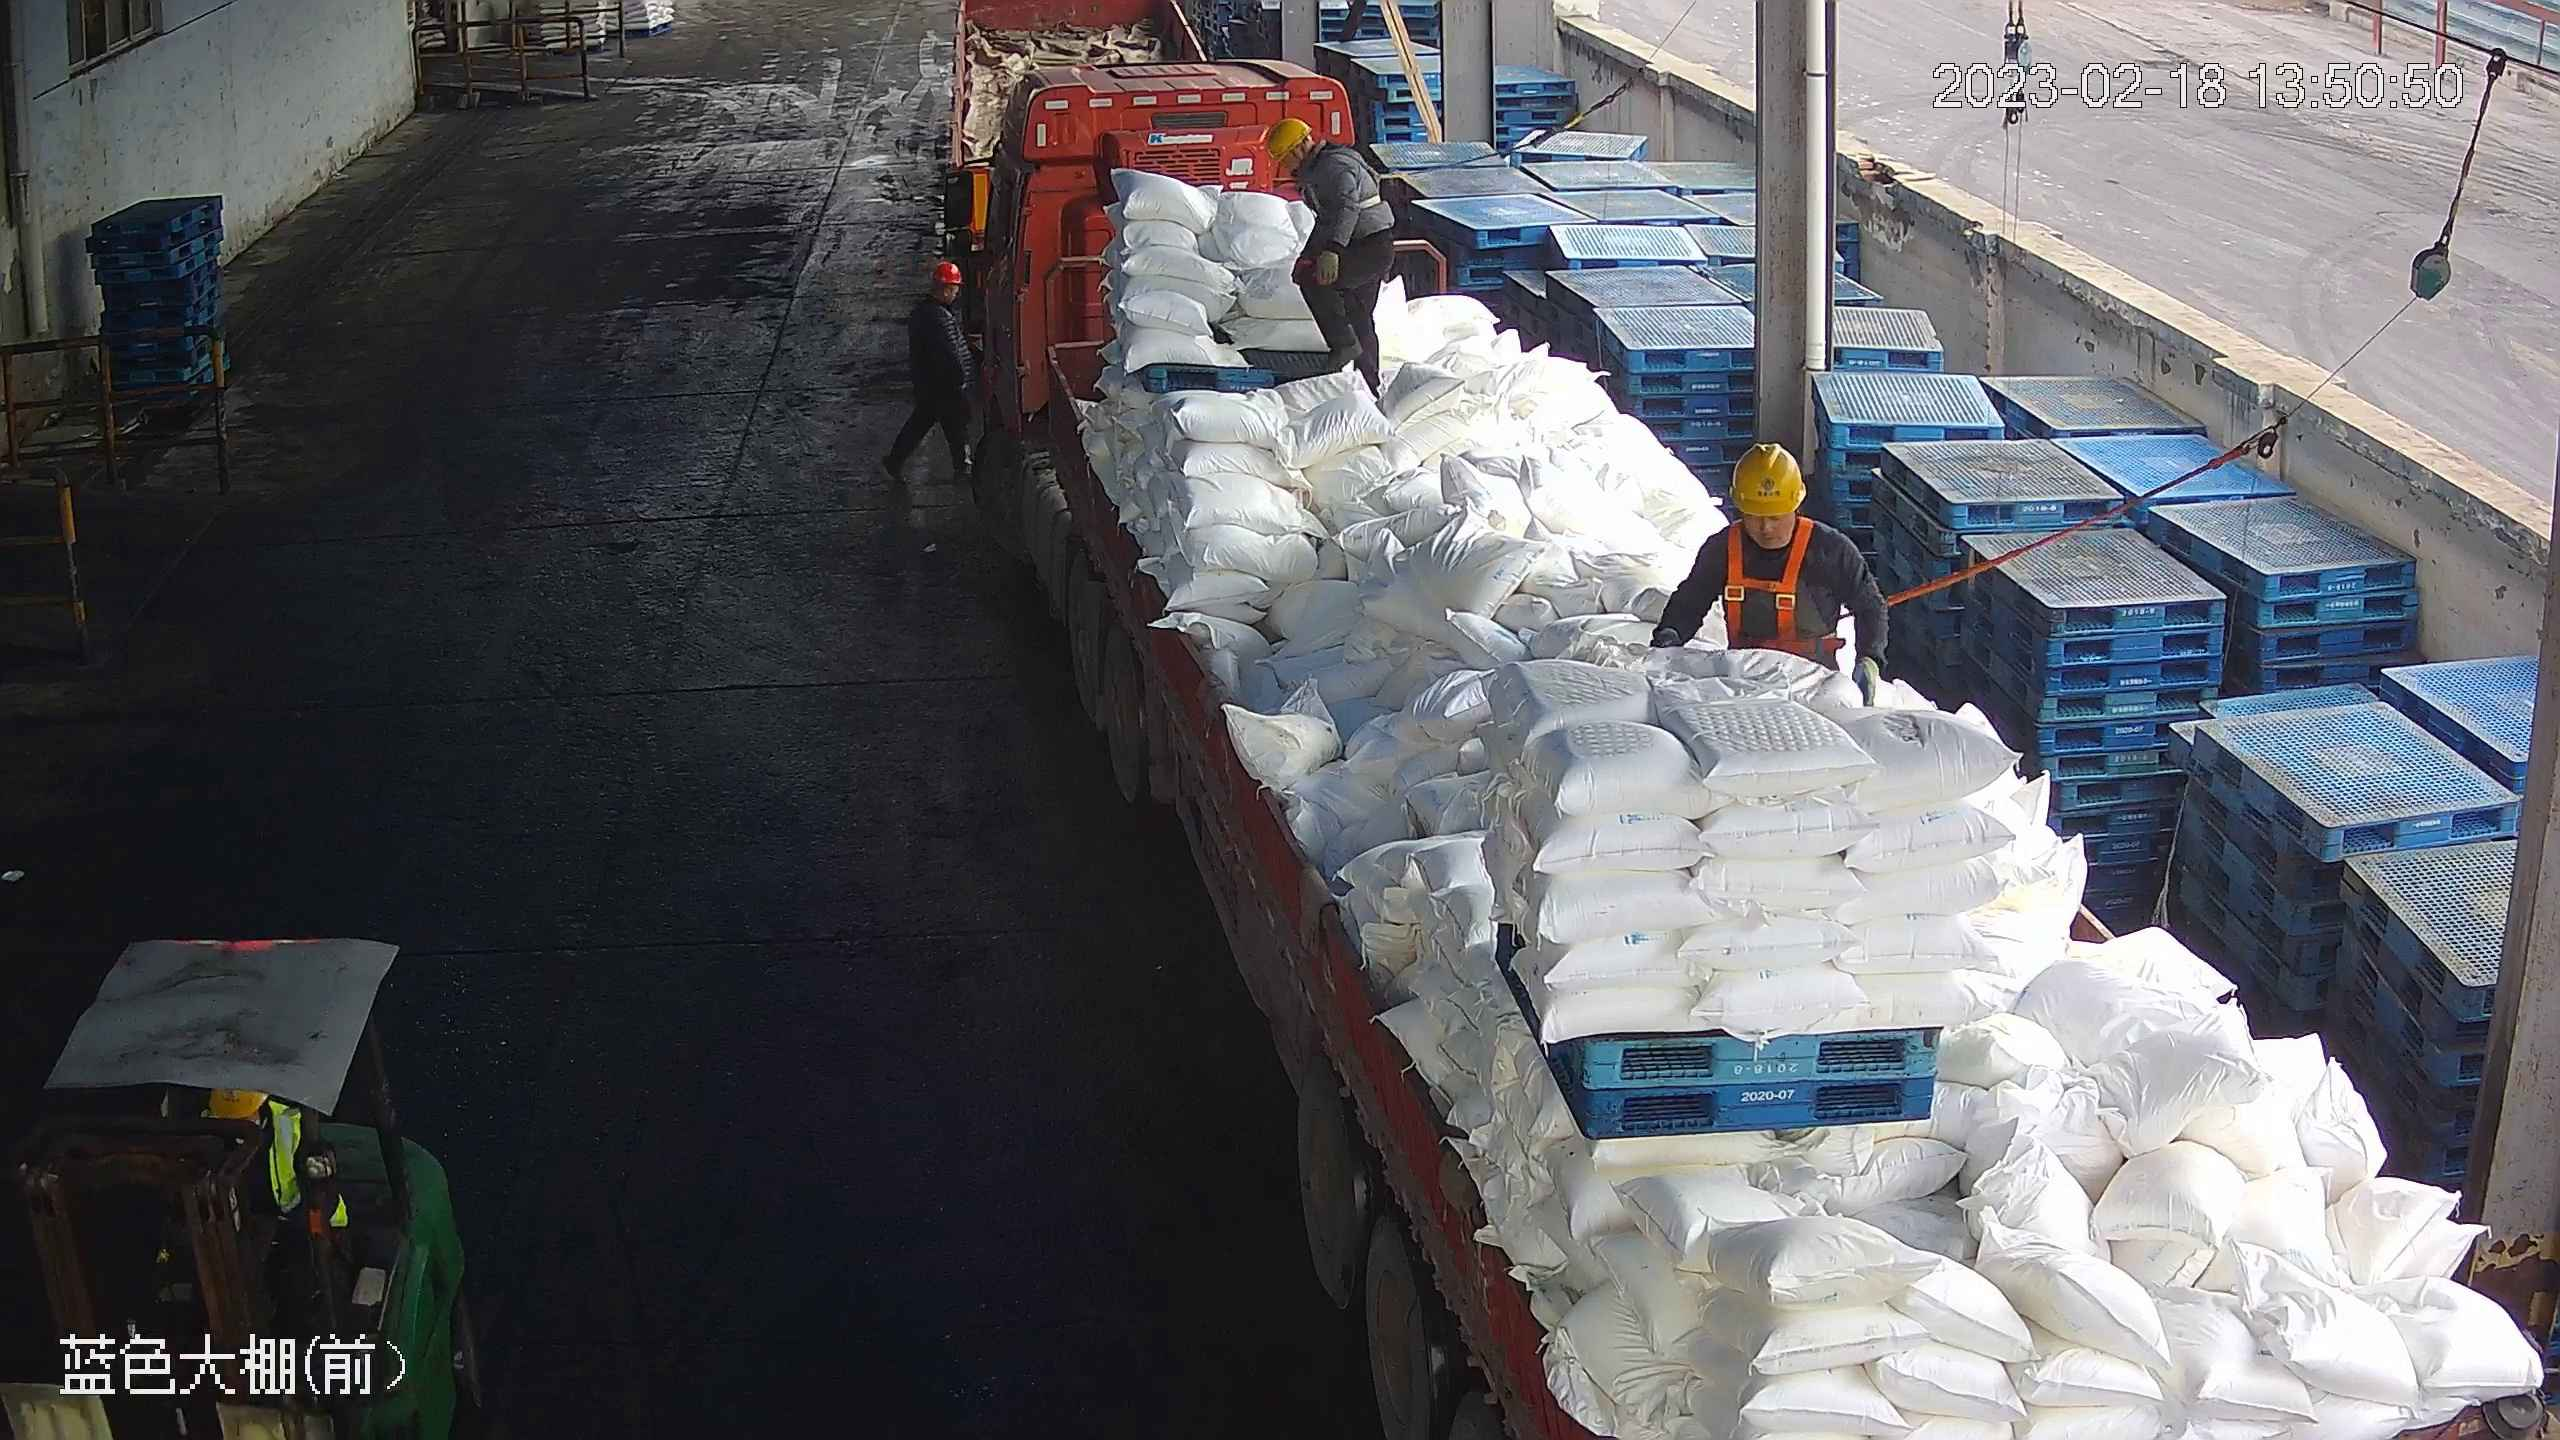belt: (1716, 524, 1846, 660), (1317, 137, 1406, 211)
head: (1672, 443, 1864, 609), (1268, 116, 1360, 219), (906, 260, 968, 342)
helmet: (1731, 445, 1808, 513), (206, 1085, 274, 1120), (1267, 116, 1312, 164), (928, 263, 964, 285)
people: (1266, 115, 1397, 395), (879, 260, 973, 480)
truck: (934, 56, 2560, 1440)
